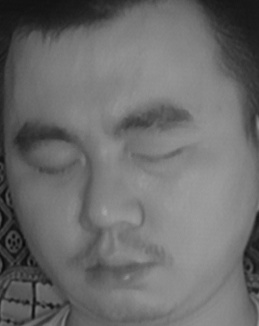blink: (130, 135, 184, 174), (32, 148, 83, 183)
mouth: (77, 238, 157, 295)
